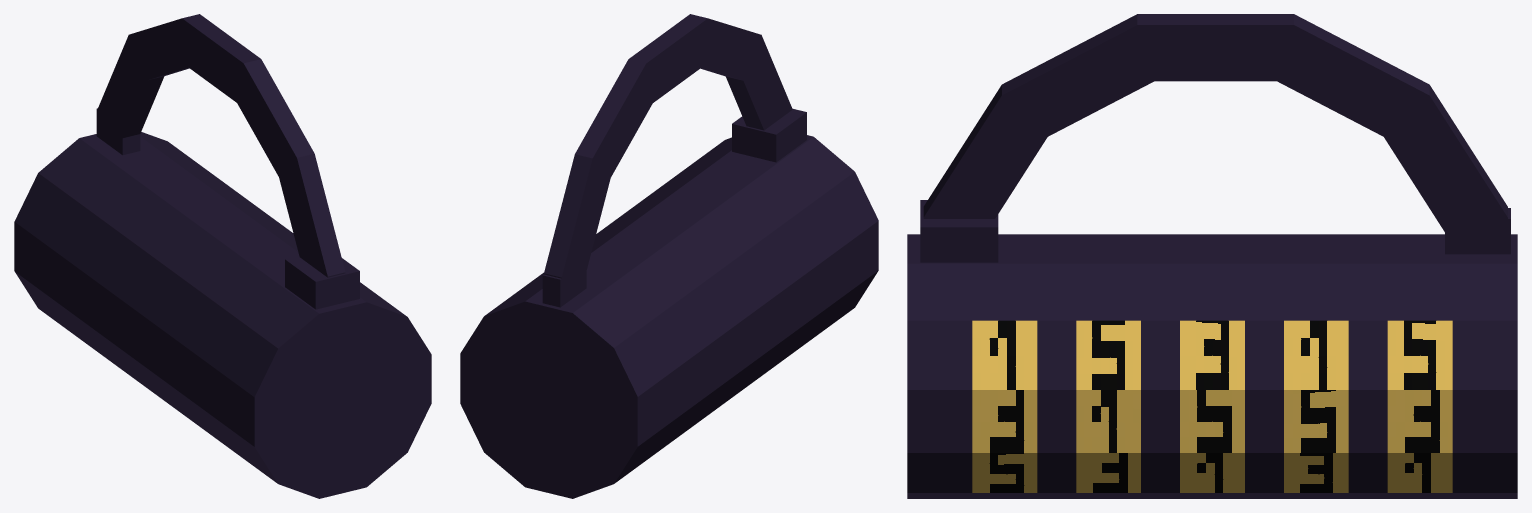
File: cadeado.gltf
3 views of the same model, side by side, from view 1: azimuth 30°, elevation 25°; view 2: azimuth 150°, elevation 25°; view 3: azimuth 270°, elevation 25° (orthographic). The views are drawn at different scales.
Parts seen in each view (by area): view 1: cylinder (×11), tube, cuboid (×2); view 2: cylinder (×11), tube, cuboid (×2); view 3: cylinder (×11), tube, cuboid (×2).
Part boxes in pixels (x1,y1,x2,y2): cylinder (×11): (14,132,431,498); tube: (98,14,345,277); cuboid (×2): (96,108,359,309); cylinder (×11): (460,135,878,498); tube: (544,14,792,288); cuboid (×2): (542,108,806,307); cylinder (×11): (907,234,1517,498); tube: (923,14,1507,254); cuboid (×2): (920,200,1510,262).
Bounding box in the file's own units: 0.25 × 0.4938 × 0.5875.
4 materials, 4 textured.
